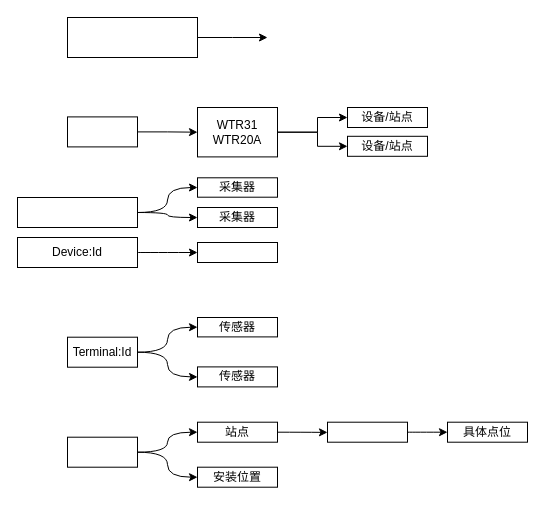
This 545x505 diagram has some shape labels left out. Each missing label, with the centre of its shape:
"Device:Terminal:Id" belongs at (77,212).
"Protocol" belongs at (102,131).
"Sensor:Code" belongs at (102,451).
"设备信息" belongs at (237,252).
"配电室" belongs at (367,431).
"采集协议" belongs at (132,37).
